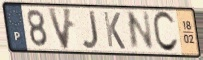8: (26, 8, 49, 48)
C: (151, 10, 180, 55)
J: (80, 9, 100, 51)
K: (102, 10, 127, 51)
N: (126, 10, 156, 53)
V: (45, 6, 74, 52)
